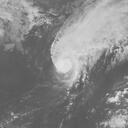cyclone: (52, 13, 104, 78)
